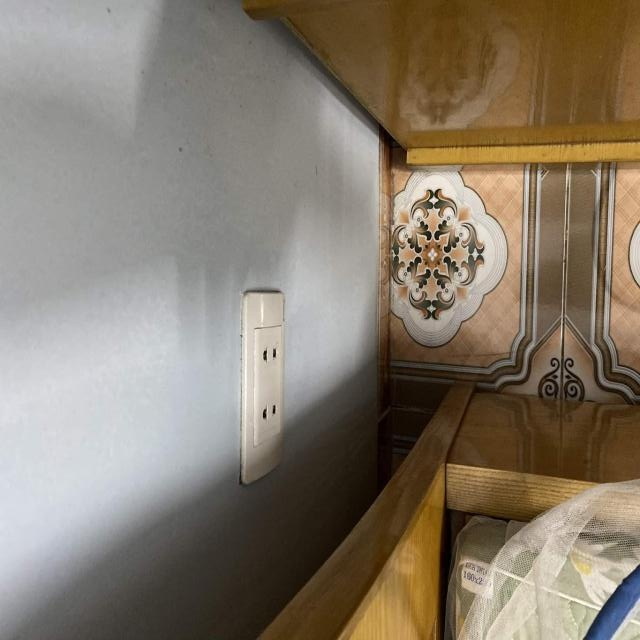outlet: (240, 291, 285, 486)
